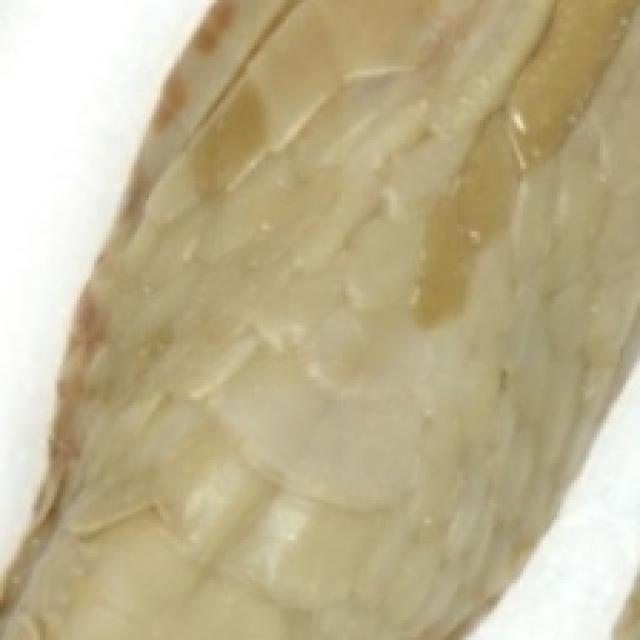mullers wolf snake: (0, 0, 637, 637)
